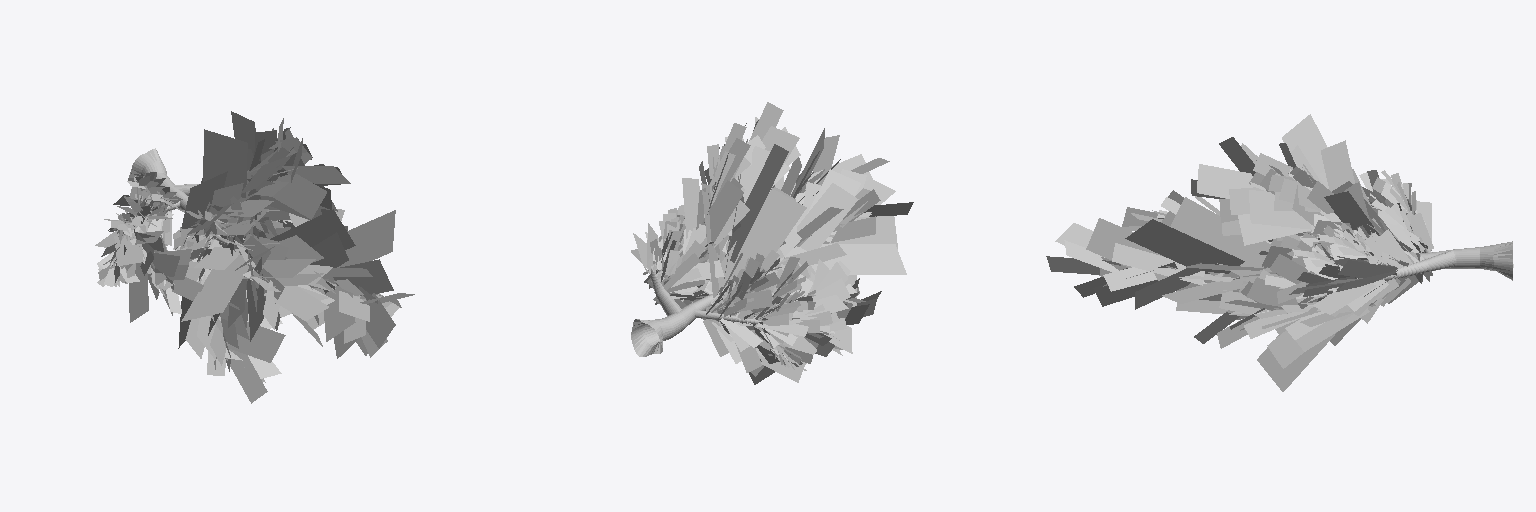
The model's file is Tree_Will.obj.
3 views of the same model, side by side, from view 1: azimuth 30°, elevation 25°; view 2: azimuth 150°, elevation 25°; view 3: azimuth 270°, elevation 25° (orthographic).
Parts seen in each view (by area): view 1: Circle.030, Circle.029, Circle.027, Circle.028, Circle.026, Circle.025, Circle_Circle.003, Circle.002_Circle.005, Circle.006_Circle.009, Circle.005_Circle.008, Circle.020_Circle.002, Circle.019_Circle.001 (+1 smaller); view 2: Circle.027, Circle.029, Circle.025, Circle_Circle.003, Circle.026, Circle.030, Circle.016_Circle.019, Circle.006_Circle.009, Circle.002_Circle.005, Circle.028, Circle.007_Circle.010, Circle.005_Circle.008 (+6 smaller); view 3: Circle.030, Circle.029, Circle.025, Circle.024, Circle.001_Circle.004, Circle.028, Circle_Circle.003, Circle.014_Circle.017, Circle.006_Circle.009, Circle.008_Circle.011, Circle.027, Circle.015_Circle.018 (+2 smaller).
Part boxes in pixels (x1,y1,x2,y2): Circle.030: (270, 209, 414, 358); Circle.029: (180, 129, 350, 235); Circle.027: (181, 234, 334, 346); Circle.028: (178, 235, 285, 403); Circle.026: (114, 231, 203, 322); Circle.025: (231, 111, 312, 172); Circle_Circle.003: (128, 148, 228, 244); Circle.002_Circle.005: (95, 225, 139, 286); Circle.006_Circle.009: (113, 172, 165, 220); Circle.005_Circle.008: (117, 187, 172, 232); Circle.020_Circle.002: (178, 202, 230, 238); Circle.019_Circle.001: (218, 196, 268, 238); Circle.027: (775, 169, 913, 306); Circle.029: (701, 102, 806, 297); Circle.025: (682, 123, 765, 257); Circle_Circle.003: (631, 269, 760, 356); Circle.026: (786, 259, 865, 353); Circle.030: (755, 117, 889, 204); Circle.016_Circle.019: (660, 224, 724, 292); Circle.006_Circle.009: (717, 250, 781, 320); Circle.002_Circle.005: (757, 304, 846, 363); Circle.028: (749, 278, 881, 384); Circle.007_Circle.010: (720, 315, 785, 372); Circle.005_Circle.008: (735, 257, 808, 323); Circle.030: (1046, 197, 1282, 309); Circle.029: (1191, 114, 1393, 247); Circle.025: (1253, 140, 1379, 235); Circle.024: (1219, 269, 1369, 368); Circle.001_Circle.004: (1265, 254, 1398, 320); Circle.028: (1176, 294, 1360, 391); Circle_Circle.003: (1381, 241, 1513, 280); Circle.014_Circle.017: (1317, 225, 1400, 268); Circle.006_Circle.009: (1372, 170, 1431, 240); Circle.008_Circle.011: (1372, 199, 1433, 252); Circle.027: (1122, 190, 1272, 243); Circle.015_Circle.018: (1334, 222, 1412, 266).
Size of the model in its own units: 1569 by 1737 by 2805.